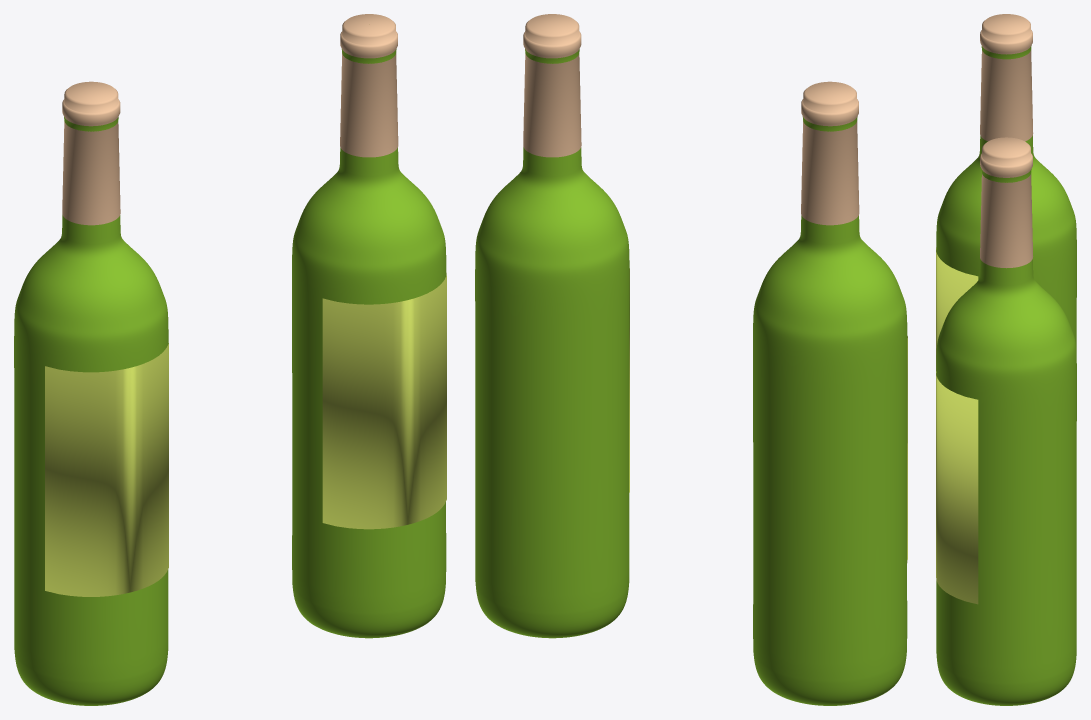
The model's file is wine.glb.
The picture shows the model from 3 angles, left to right: view 1: azimuth 30°, elevation 25°; view 2: azimuth 150°, elevation 25°; view 3: azimuth 270°, elevation 25°; orthographic projection. The views are drawn at different scales.
Visible parts, largest first — view 1: Line038, Line001, Box007, Box008, Line039, Line002; view 2: Line001, Line038, Line002, Line039; view 3: Line001, Line038, Box007, Line002, Line039, Box008.
Boxes of the visible parts, box(x1,y1,x2,y2) form: Line038: box(14, 117, 168, 705); Line001: box(292, 49, 446, 638); Box007: box(322, 273, 446, 529); Box008: box(45, 343, 168, 596); Line039: box(62, 81, 120, 225); Line002: box(340, 14, 398, 157); Line001: box(475, 49, 629, 638); Line038: box(753, 116, 907, 705); Line002: box(523, 14, 581, 157); Line039: box(801, 81, 859, 225); Line001: box(936, 169, 1076, 705); Line038: box(936, 45, 1076, 350); Box007: box(936, 371, 978, 604); Line002: box(980, 137, 1033, 268); Line039: box(980, 14, 1033, 141); Box008: box(936, 248, 978, 370).
Size of the model in its own units: 21.48 by 29.36 by 6.99.
